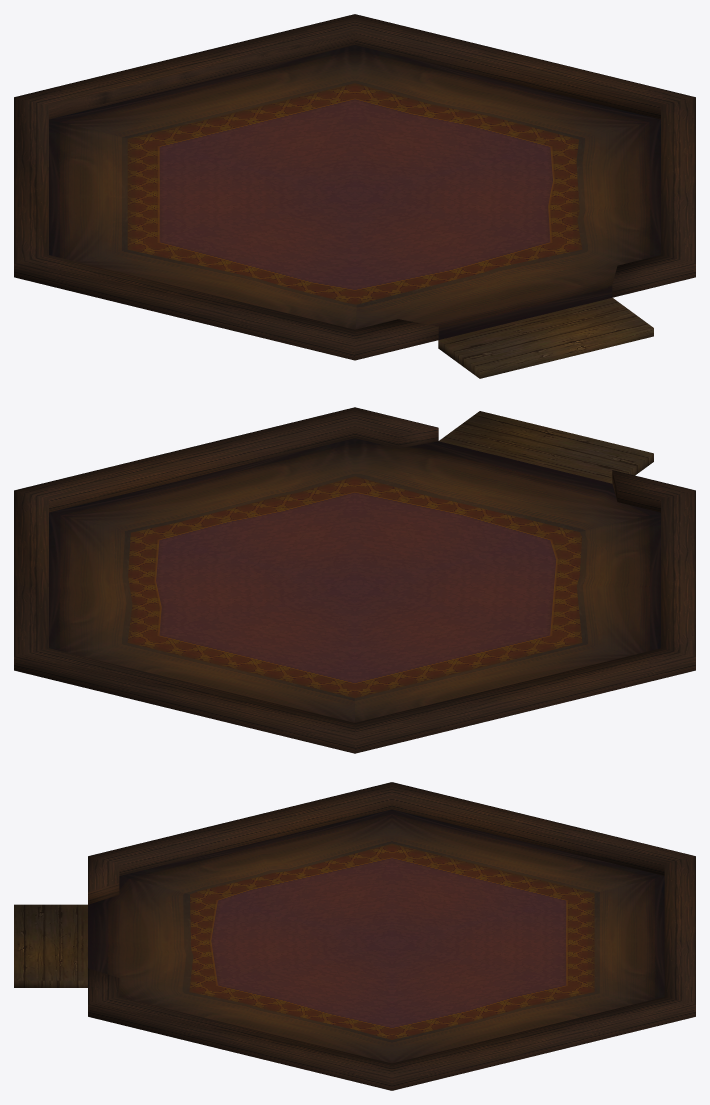
Rendered from daliang_field_b_s09a.fbx.
3 views of the same model, one above another, from view 1: azimuth 30°, elevation 25°; view 2: azimuth 150°, elevation 25°; view 3: azimuth 270°, elevation 25° (orthographic). The views are drawn at different scales.
Visible parts, largest first — view 1: daliang_field_b_s09a; view 2: daliang_field_b_s09a; view 3: daliang_field_b_s09a.
Part boxes in pixels (bbox=[...]): daliang_field_b_s09a: bbox=[14, 14, 695, 378]; daliang_field_b_s09a: bbox=[14, 407, 695, 753]; daliang_field_b_s09a: bbox=[14, 782, 695, 1090].
Bounding box in the file's own units: 2174 × 66.98 × 2112.
